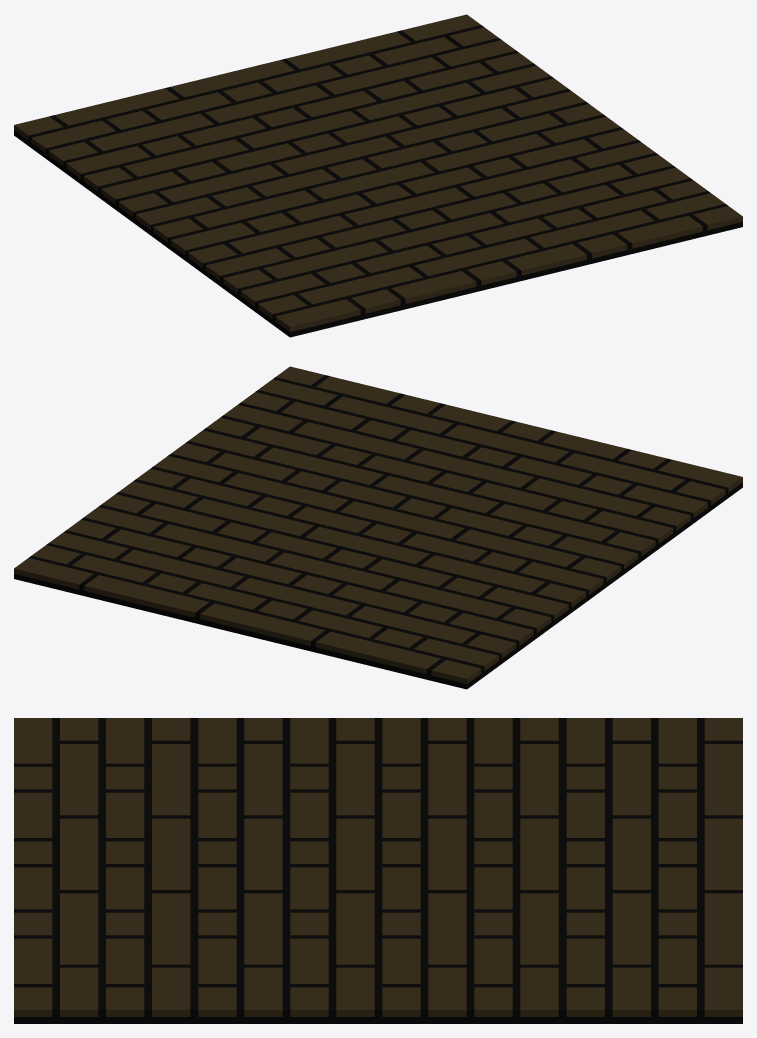
File: level1floor.fbx
The picture shows the model from 3 angles, top to bottom: view 1: azimuth 30°, elevation 25°; view 2: azimuth 150°, elevation 25°; view 3: azimuth 270°, elevation 25°; orthographic projection. The views are drawn at different scales.
Visible parts, largest first — view 1: Untitled; view 2: Untitled; view 3: Untitled.
Part boxes in pixels (box(x1,y1,x2,y2)): Untitled: box(14, 14, 742, 337); Untitled: box(14, 366, 742, 689); Untitled: box(14, 718, 742, 1023).
Bounding box in the file's own units: 9 × 0.2 × 9.5.
